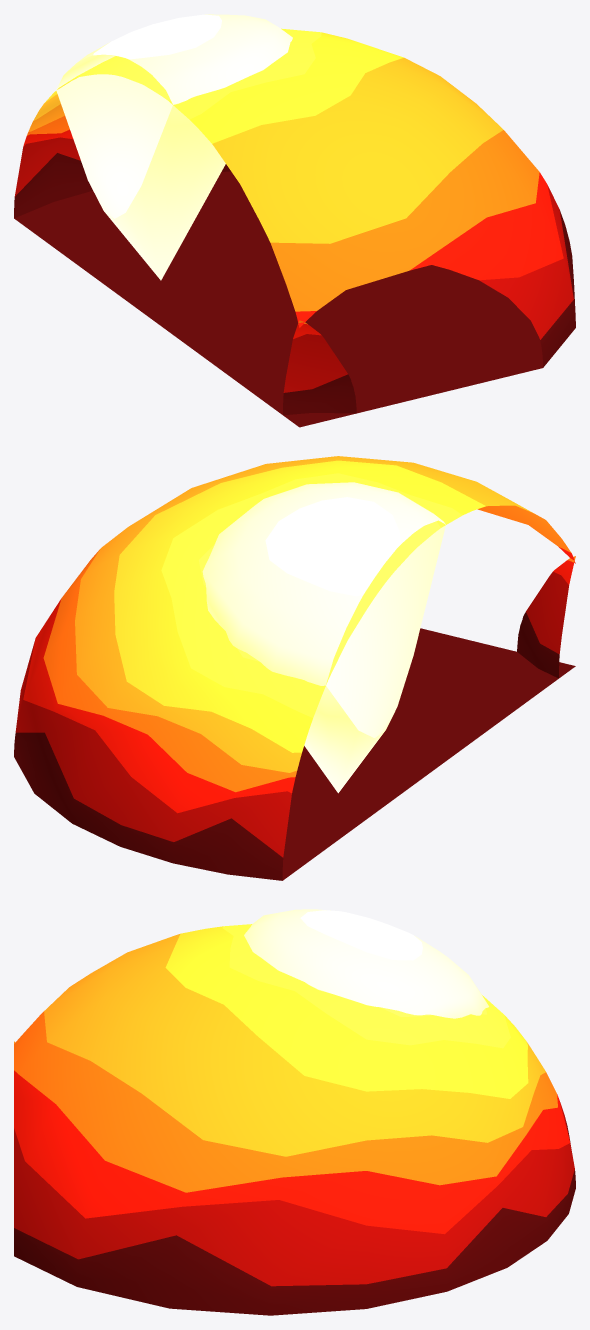
File: shot_charge_b203.glb
3 renders of one model, top to bottom at view 1: azimuth 30°, elevation 25°; view 2: azimuth 150°, elevation 25°; view 3: azimuth 270°, elevation 25°, orthographic. The views are drawn at different scales.
Parts seen in each view (by area): view 1: charge_twin1_a_fire_shot_charge_b203, charge_twin1_a_core_shot_charge_b203, charge_twin1_b_fire_shot_charge_b203; view 2: charge_twin1_a_fire_shot_charge_b203, charge_twin1_a_core_shot_charge_b203, charge_twin1_b_fire_shot_charge_b203; view 3: charge_twin1_a_fire_shot_charge_b203, charge_twin1_a_core_shot_charge_b203.
Part boxes in pixels (x1,y1,x2,y2): charge_twin1_a_fire_shot_charge_b203: (14,28,575,427); charge_twin1_a_core_shot_charge_b203: (56,14,292,280); charge_twin1_b_fire_shot_charge_b203: (283,320,356,426); charge_twin1_a_fire_shot_charge_b203: (14,456,575,880); charge_twin1_a_core_shot_charge_b203: (202,482,445,793); charge_twin1_b_fire_shot_charge_b203: (517,556,575,678); charge_twin1_a_fire_shot_charge_b203: (14,924,575,1315); charge_twin1_a_core_shot_charge_b203: (244,909,488,1018).
Bounding box in the file's own units: 8 × 5.37 × 11.
